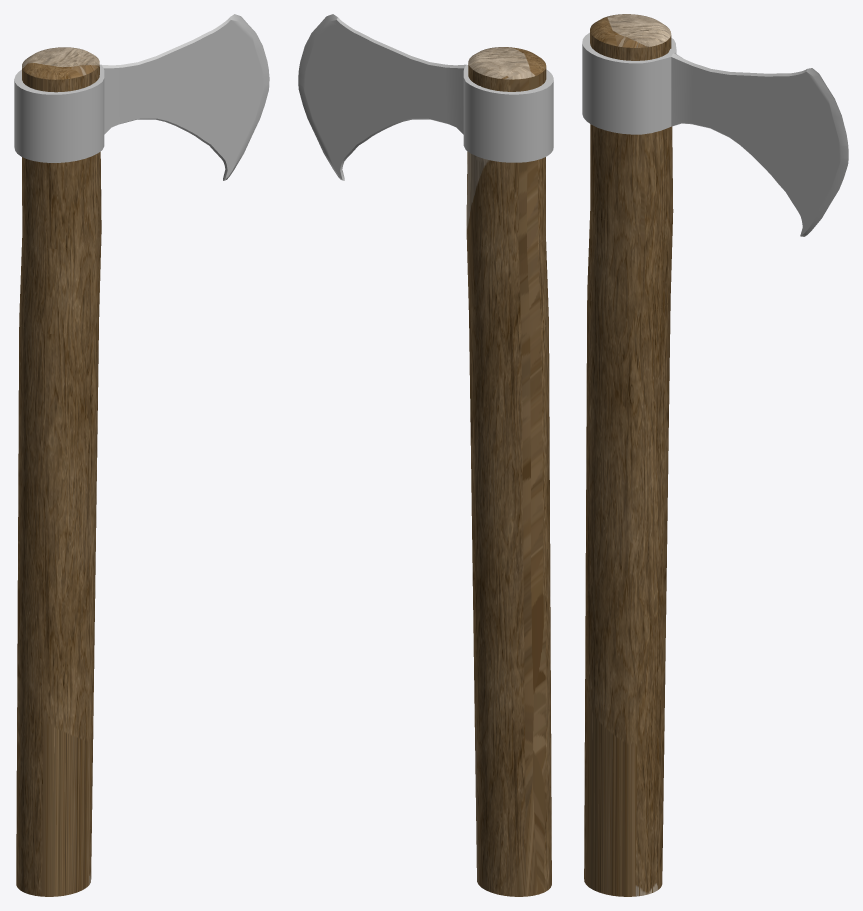
Rendered from AXE1.fbx.
3 views of the same model, side by side, from view 1: azimuth 30°, elevation 25°; view 2: azimuth 150°, elevation 25°; view 3: azimuth 330°, elevation 25° (orthographic). The views are drawn at different scales.
Parts seen in each view (by area): view 1: Cylinder, Cylinder.001; view 2: Cylinder, Cylinder.001; view 3: Cylinder, Cylinder.001.
Boxes of the visible parts, x1,y1,x2,y2 form: Cylinder: [16, 47, 101, 896]; Cylinder.001: [14, 14, 269, 180]; Cylinder: [466, 47, 551, 896]; Cylinder.001: [298, 14, 553, 180]; Cylinder: [584, 14, 673, 896]; Cylinder.001: [582, 32, 848, 236].
Bounding box in the file's own units: 605 × 1901 × 169.
